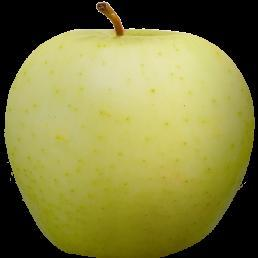apple: (10, 21, 256, 254)
